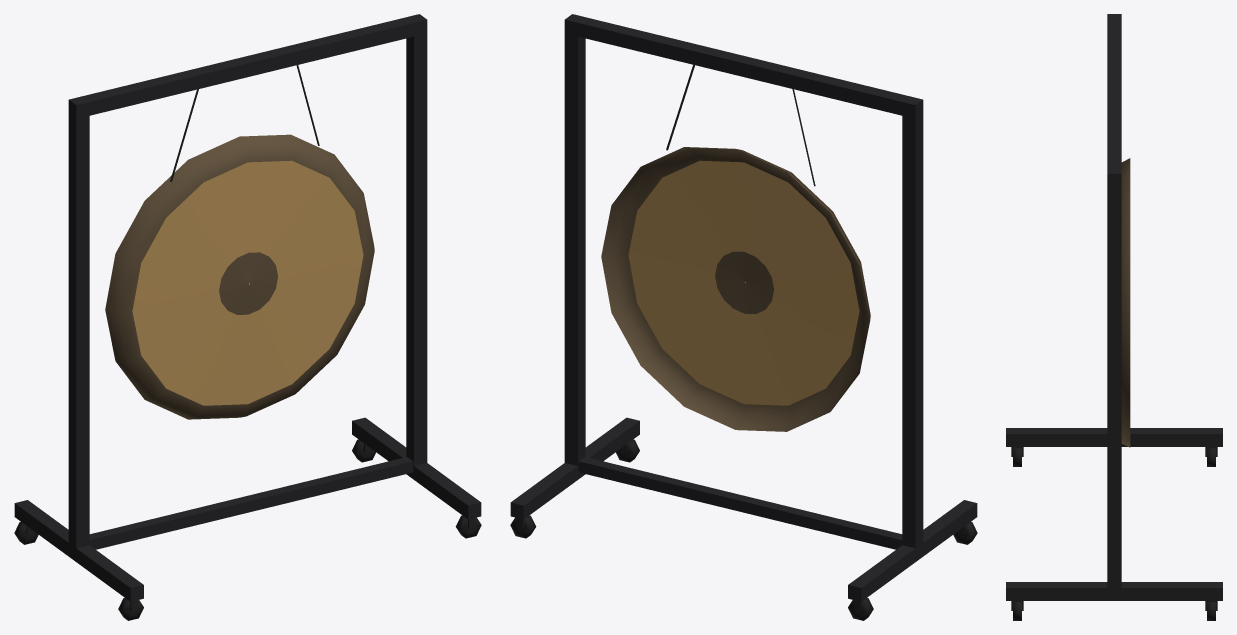
The model's file is gong-40-low.glb.
3 views of the same model, side by side, from view 1: azimuth 30°, elevation 25°; view 2: azimuth 150°, elevation 25°; view 3: azimuth 270°, elevation 25° (orthographic). The views are drawn at different scales.
Parts seen in each view (by area): view 1: gong, frame, gong-dark, rubber; view 2: gong, frame, gong-dark, rubber; view 3: frame, gong-dark, rubber.
Boxes of the visible parts, bbox=[...] form: gong: bbox=[132, 160, 363, 405]; frame: bbox=[14, 14, 481, 611]; gong-dark: bbox=[105, 134, 374, 419]; rubber: bbox=[14, 65, 481, 620]; gong: bbox=[628, 160, 859, 405]; frame: bbox=[510, 14, 977, 611]; gong-dark: bbox=[601, 147, 870, 431]; rubber: bbox=[510, 65, 977, 620]; frame: bbox=[1006, 14, 1222, 610]; gong-dark: bbox=[1121, 158, 1130, 447]; rubber: bbox=[1013, 448, 1215, 620].
Size of the model in its own units: 1.36 by 1.73 by 0.76.
